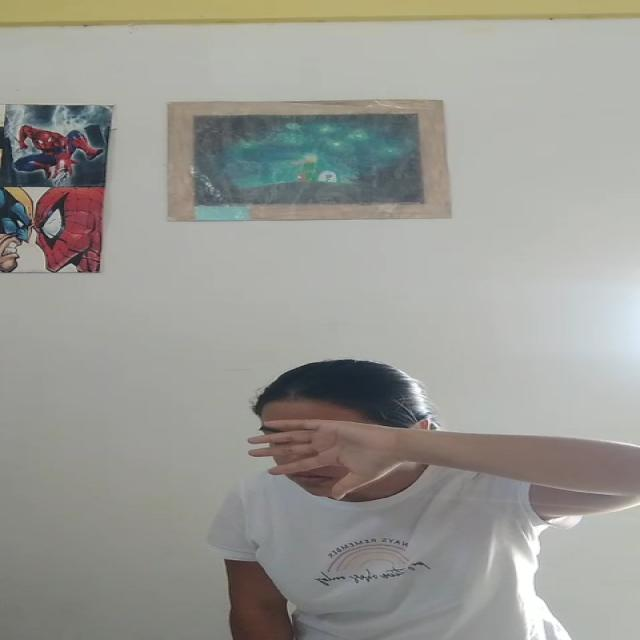7_mano_rostro: (256, 418, 497, 501)
